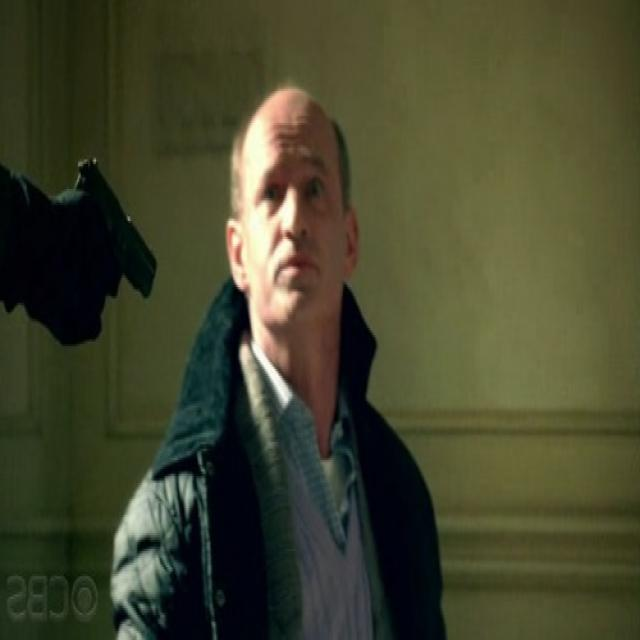weapons: (50, 142, 176, 356)
